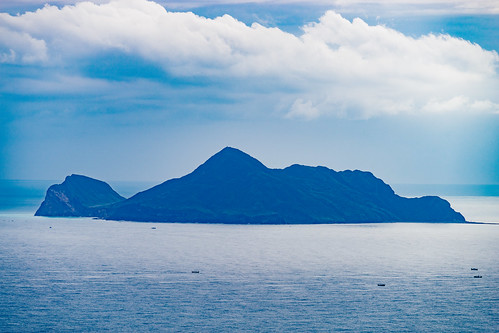turtleIslandLeft: (32, 144, 466, 227)
